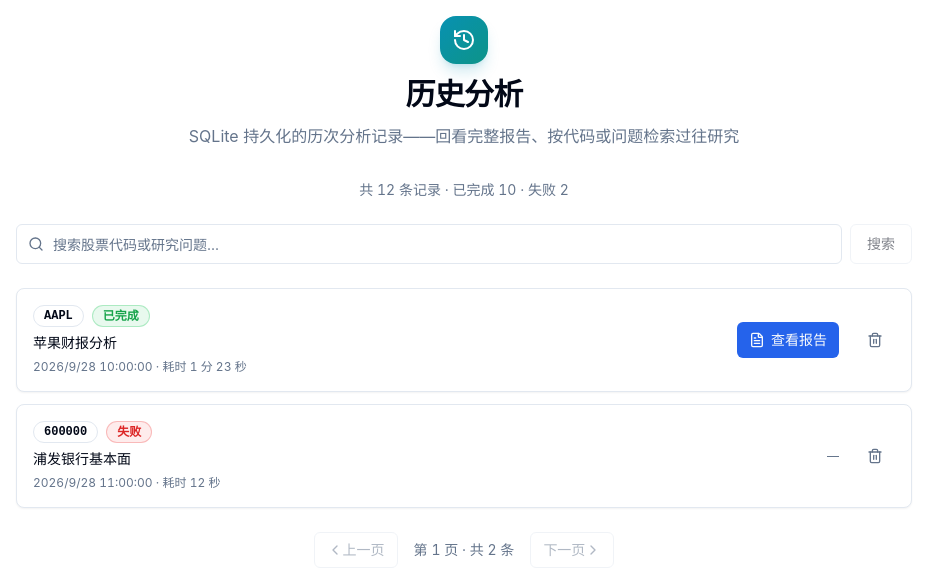
Test: HistoryPage record list › searches via the search endpoint on submit and returns to the list on clear
Expected: the text "苹果财报分析" is shown, [33, 334, 117, 351]
Type "MSFT" into the field named "搜索历史" at point(429, 244), box [16, 224, 842, 264]
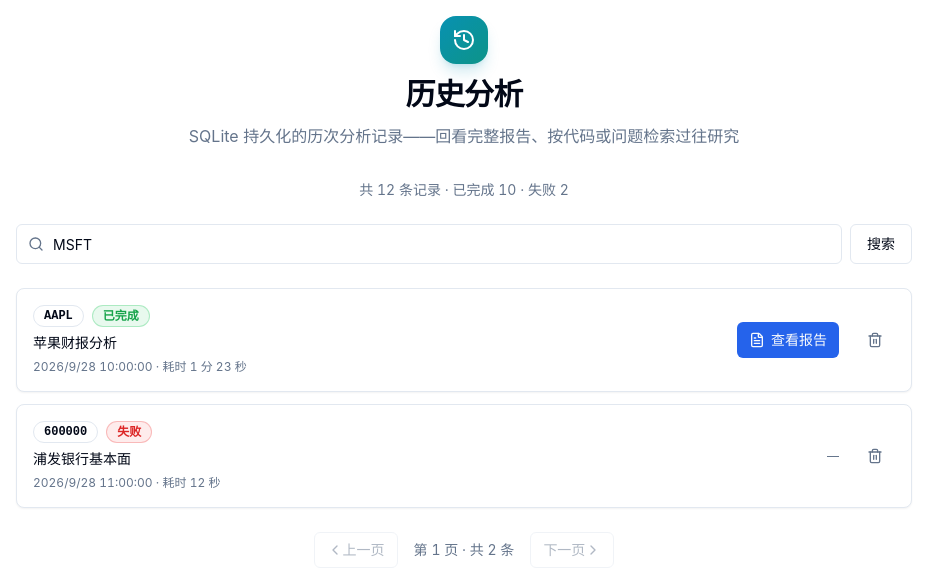
Click the button "搜索" at point(881, 244), box [850, 224, 912, 264]
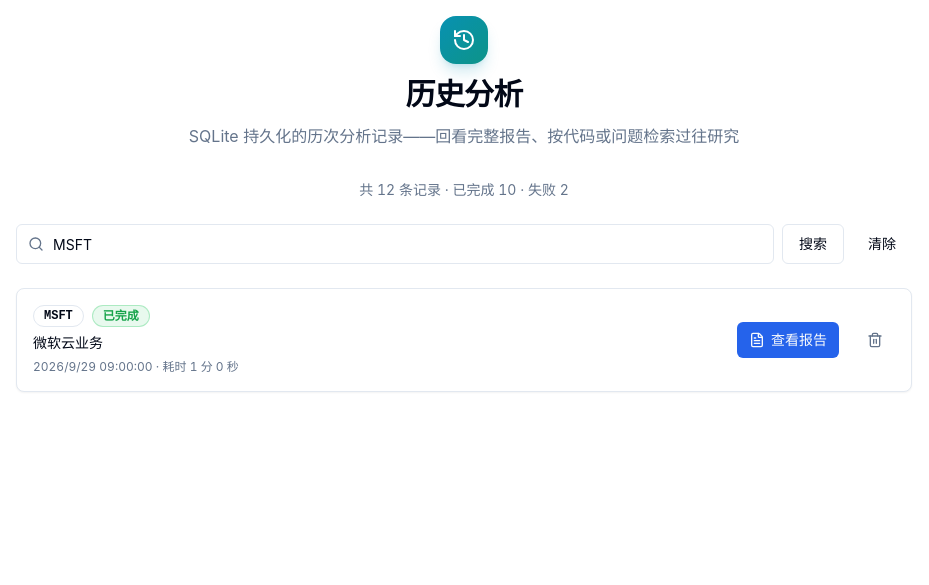
Result: the text "微软云业务" is shown at [33, 334, 103, 351]
Result: the text "苹果财报分析" is gone
清除搜索回到全量列表
Click the button "清除" at point(882, 244), box [852, 224, 912, 264]
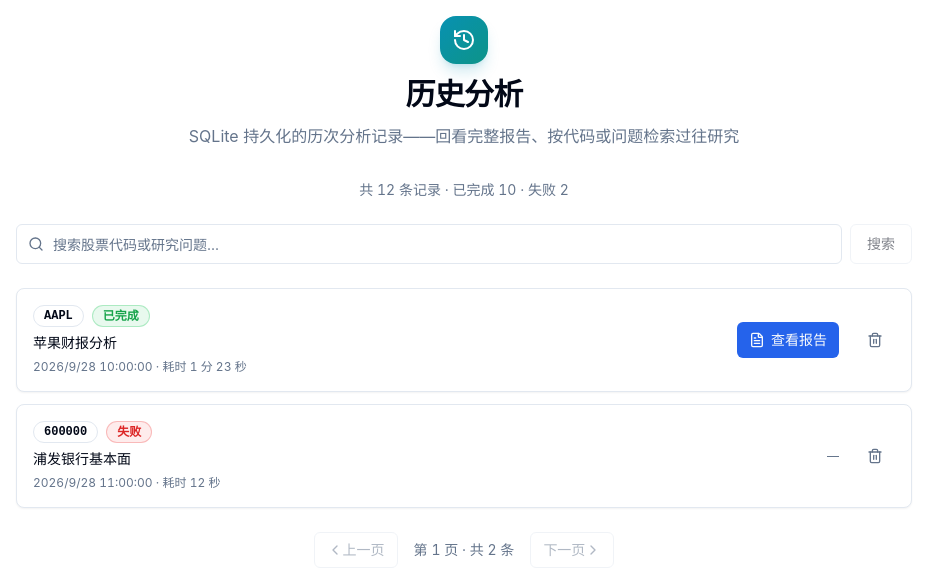
Result: the text "苹果财报分析" is shown at [33, 334, 117, 351]
